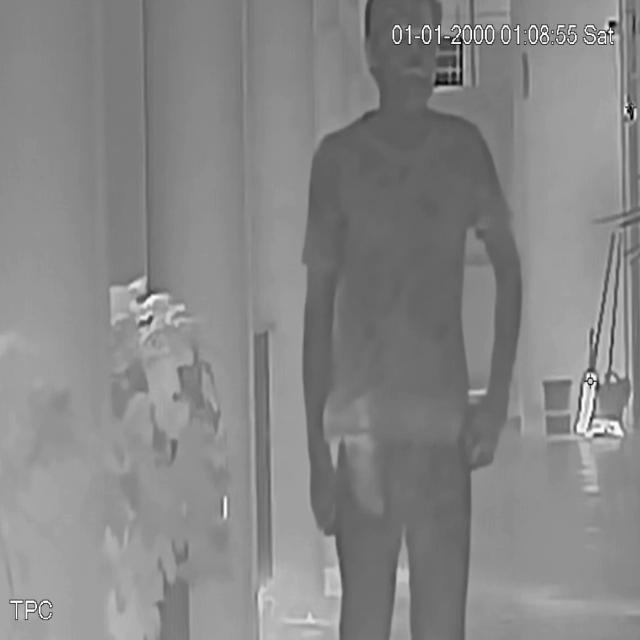Weapon: (310, 376, 403, 529)
